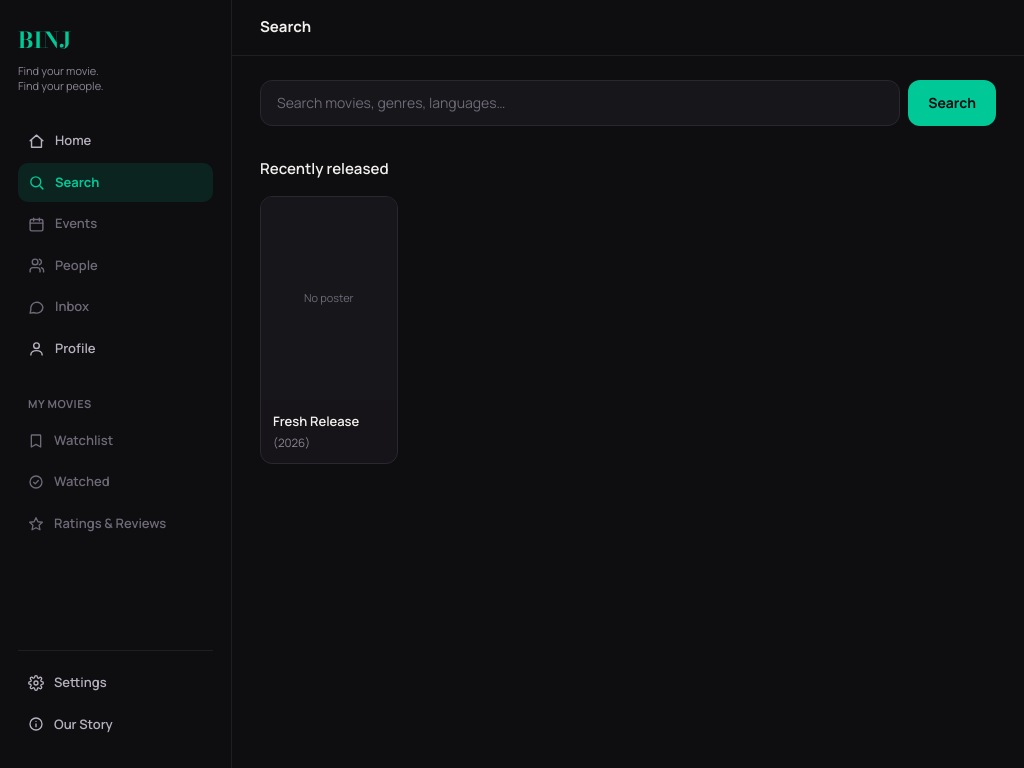
Test: MovieSearch — recently released (default browse view) › switches to search results once a search is submitted, hiding recently released
Check: the text "Fresh Release" is shown, box [273, 412, 359, 430]
Type "Dune" into the field named "search for a movie" at (580, 102), box [260, 80, 900, 126]
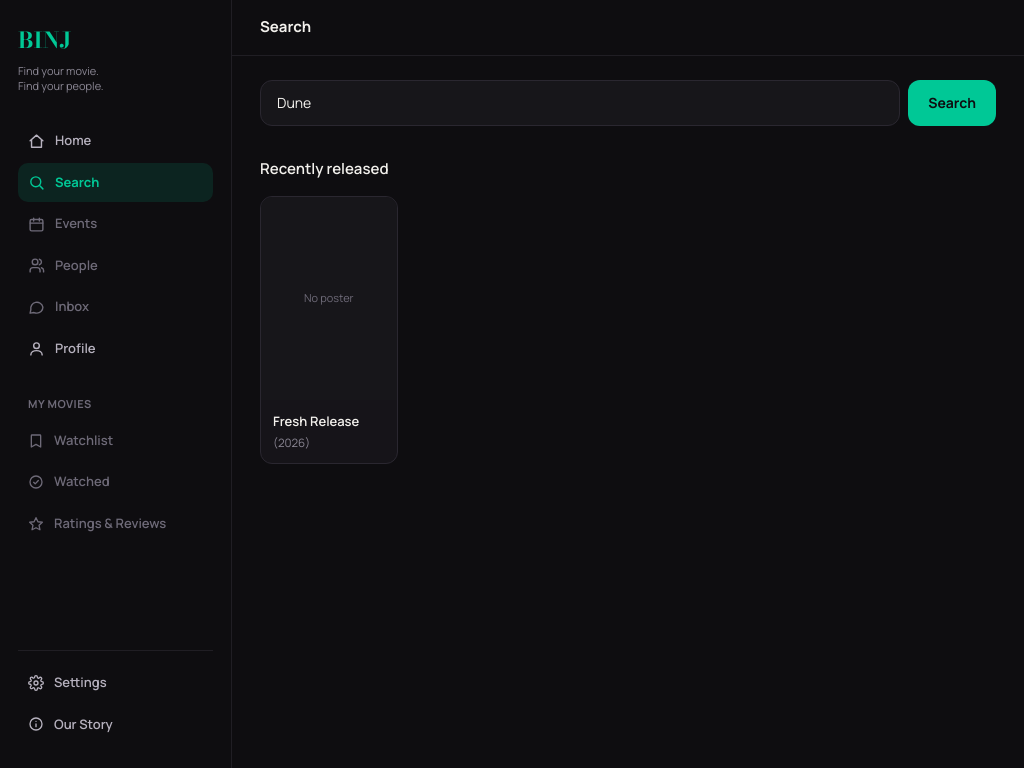
Submit the form named "search for a movie", box [260, 80, 996, 126]
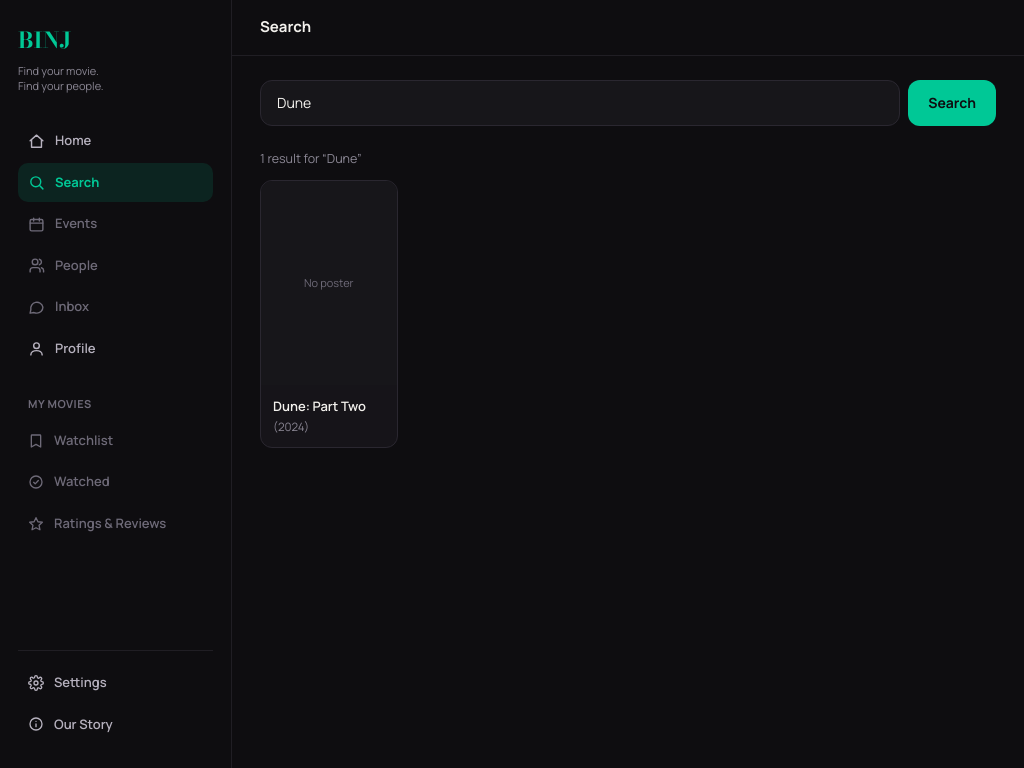
Check: the text "Dune: Part Two" is shown, box [273, 397, 366, 415]
Check: the button "Fresh Release" is gone
Check: the heading "Recently released" is gone
